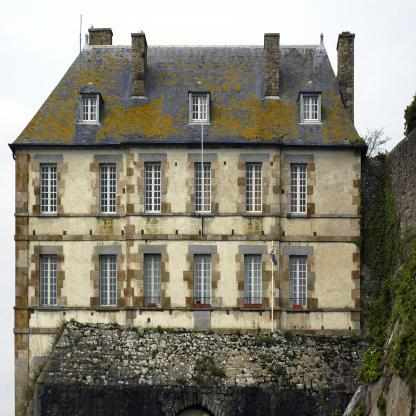Building Outline: (8, 28, 369, 416)
Cornice: (283, 246, 314, 256), (188, 244, 217, 254), (33, 154, 64, 163), (187, 153, 218, 162), (239, 153, 270, 162), (93, 154, 123, 163), (284, 154, 314, 163), (238, 245, 268, 254), (138, 244, 167, 253), (94, 246, 122, 255), (34, 246, 63, 254), (139, 153, 167, 161)
Facade: (15, 140, 360, 326)
Floor: (15, 147, 360, 235), (15, 239, 360, 326)
Floor Slab: (15, 327, 360, 331), (15, 235, 360, 239), (15, 144, 360, 148)
Roof: (8, 32, 369, 164)
Top Floor: (15, 50, 360, 144)
Window: (289, 255, 307, 309), (39, 254, 57, 307), (244, 254, 262, 307), (144, 253, 161, 307), (99, 254, 116, 307), (194, 254, 211, 307), (290, 163, 307, 214), (40, 163, 57, 214), (100, 163, 117, 214), (144, 162, 161, 213), (194, 162, 211, 213), (246, 162, 263, 213), (303, 96, 318, 122), (192, 96, 207, 121), (82, 97, 97, 122)
